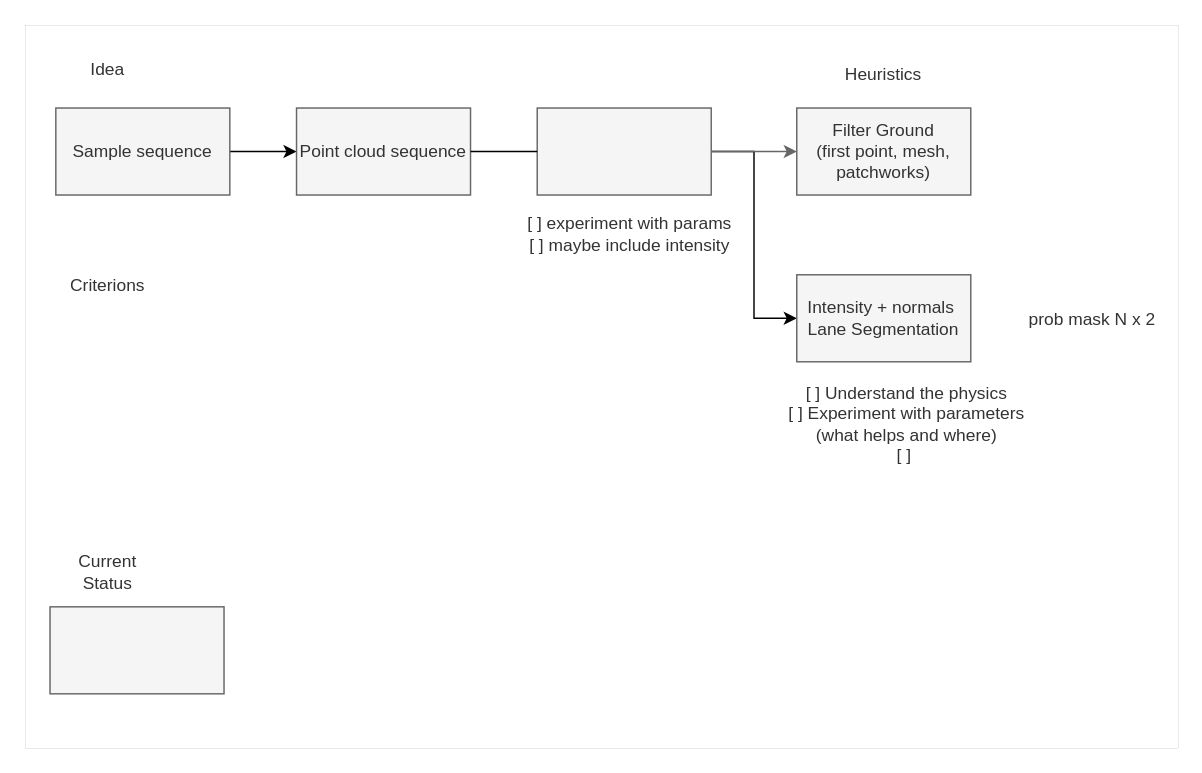
Image size: 1202x773. Some labels were removed from this diagram. Each missing label, with the box of its shape:
Estimate normals (pytorch3d): (536, 107, 711, 195)
Yana's Approach (most of it done): (49, 605, 224, 694)
